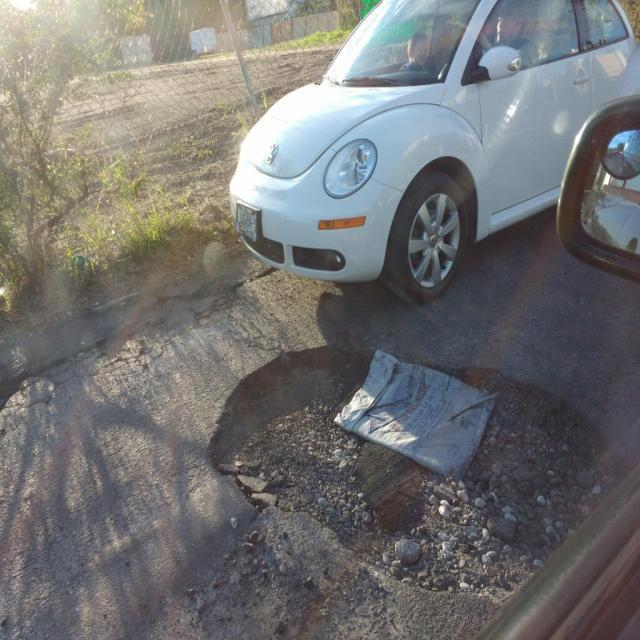pothole: (170, 319, 639, 610)
